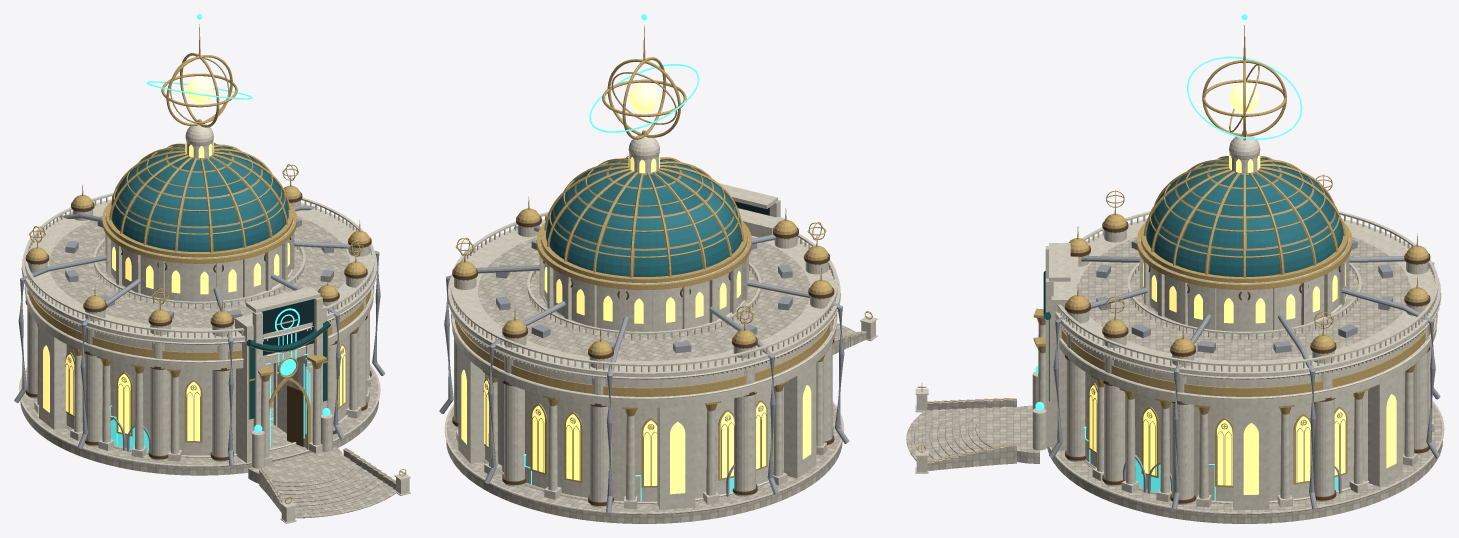
The model's file is residencia.glb.
3 views of the same model, side by side, from view 1: azimuth 30°, elevation 25°; view 2: azimuth 150°, elevation 25°; view 3: azimuth 270°, elevation 25° (orthographic). The views are drawn at different scales.
Parts seen in each view (by area): view 1: Residencia · Mármol marfil envejecido, Residencia · Piso de piedra pulida, Residencia · Oro champagne, Residencia · Tejas de metal teal, Residencia · Aleación de titanio, Residencia · Ventanal cálido, Residencia · Filigrana de oro, Residencia · Bronce oxidado, Residencia · Conectores de éter, Residencia · Panel teal oscuro, Residencia · Cortinado teal bordado, Residencia · Núcleo de la esfera armilar; view 2: Residencia · Mármol marfil envejecido, Residencia · Piso de piedra pulida, Residencia · Oro champagne, Residencia · Tejas de metal teal, Residencia · Ventanal cálido, Residencia · Aleación de titanio, Residencia · Filigrana de oro, Residencia · Bronce oxidado, Residencia · Núcleo de la esfera armilar, Residencia · Conectores de éter; view 3: Residencia · Mármol marfil envejecido, Residencia · Piso de piedra pulida, Residencia · Oro champagne, Residencia · Tejas de metal teal, Residencia · Ventanal cálido, Residencia · Aleación de titanio, Residencia · Filigrana de oro, Residencia · Bronce oxidado, Residencia · Conectores de éter, Residencia · Núcleo de la esfera armilar.
Boxes of the visible parts, bbox=[...] form: Residencia · Mármol marfil envejecido: bbox=[19, 123, 410, 523]; Residencia · Piso de piedra pulida: bbox=[20, 216, 396, 518]; Residencia · Oro champagne: bbox=[27, 24, 406, 504]; Residencia · Tejas de metal teal: bbox=[111, 144, 288, 251]; Residencia · Aleación de titanio: bbox=[14, 205, 385, 465]; Residencia · Ventanal cálido: bbox=[43, 140, 345, 441]; Residencia · Filigrana de oro: bbox=[28, 291, 371, 419]; Residencia · Bronce oxidado: bbox=[25, 192, 371, 460]; Residencia · Conectores de éter: bbox=[110, 14, 330, 446]; Residencia · Panel teal oscuro: bbox=[261, 299, 314, 355]; Residencia · Cortinado teal bordado: bbox=[246, 321, 330, 419]; Residencia · Núcleo de la esfera armilar: bbox=[186, 77, 213, 103]; Residencia · Mármol marfil envejecido: bbox=[444, 134, 877, 514]; Residencia · Piso de piedra pulida: bbox=[446, 237, 866, 523]; Residencia · Oro champagne: bbox=[453, 25, 872, 487]; Residencia · Tejas de metal teal: bbox=[546, 158, 741, 276]; Residencia · Ventanal cálido: bbox=[461, 153, 811, 494]; Residencia · Aleación de titanio: bbox=[439, 226, 849, 513]; Residencia · Filigrana de oro: bbox=[455, 320, 833, 396]; Residencia · Bronce oxidado: bbox=[452, 216, 834, 505]; Residencia · Núcleo de la esfera armilar: bbox=[629, 83, 659, 113]; Residencia · Conectores de éter: bbox=[523, 14, 699, 501]; Residencia · Mármol marfil envejecido: bbox=[915, 136, 1444, 514]; Residencia · Piso de piedra pulida: bbox=[906, 237, 1442, 523]; Residencia · Oro champagne: bbox=[917, 25, 1428, 487]; Residencia · Tejas de metal teal: bbox=[1146, 158, 1342, 276]; Residencia · Ventanal cálido: bbox=[1089, 153, 1396, 494]; Residencia · Aleación de titanio: bbox=[1049, 239, 1440, 509]; Residencia · Filigrana de oro: bbox=[1045, 319, 1434, 400]; Residencia · Bronce oxidado: bbox=[1065, 221, 1430, 503]; Residencia · Conectores de éter: bbox=[1035, 14, 1302, 500]; Residencia · Núcleo de la esfera armilar: bbox=[1229, 83, 1259, 112].
Bounding box in the file's own units: 58.81 × 69.19 × 79.2.
13 materials, 5 textured.
